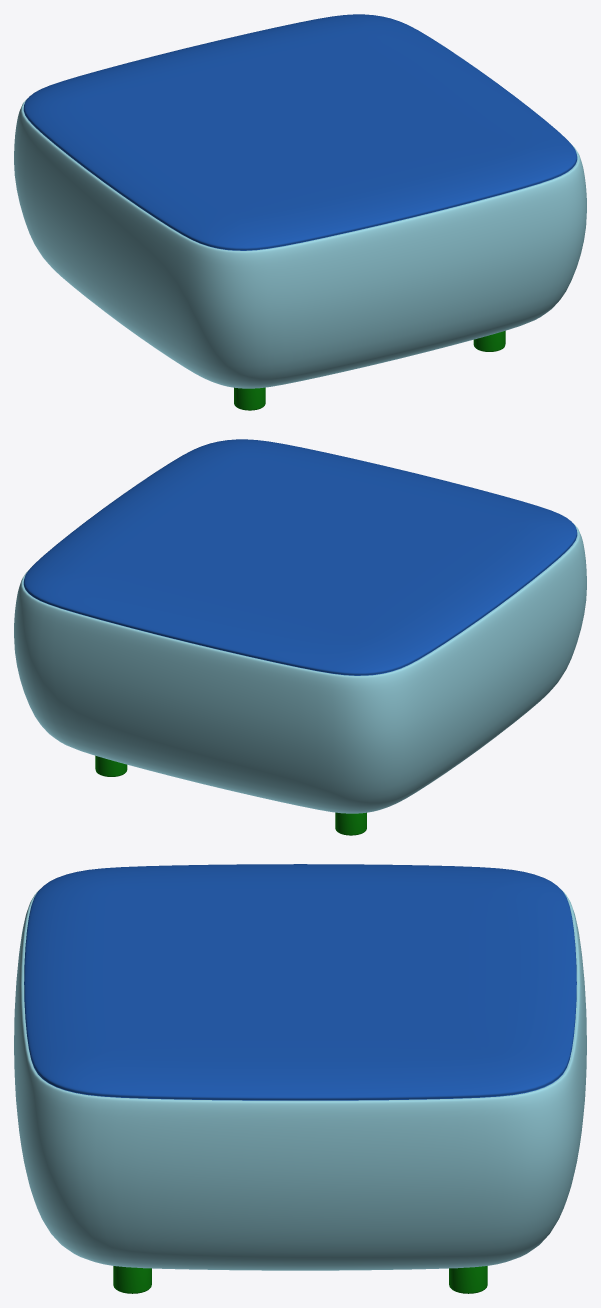
File: sofa5.obj
3 views of the same model, one above another, from view 1: azimuth 30°, elevation 25°; view 2: azimuth 150°, elevation 25°; view 3: azimuth 270°, elevation 25° (orthographic). The views are drawn at different scales.
Visible parts, largest first — view 1: cgaxis_models_07_20_02, cgaxis_models_07_20_01, cgaxis_models_07_20_03; view 2: cgaxis_models_07_20_02, cgaxis_models_07_20_01, cgaxis_models_07_20_03; view 3: cgaxis_models_07_20_02, cgaxis_models_07_20_01, cgaxis_models_07_20_03.
Part boxes in pixels (x1,y1,x2,y2): cgaxis_models_07_20_02: (23,14,577,250); cgaxis_models_07_20_01: (14,98,586,388); cgaxis_models_07_20_03: (234,330,505,410); cgaxis_models_07_20_02: (23,439,577,675); cgaxis_models_07_20_01: (14,523,586,813); cgaxis_models_07_20_03: (95,755,366,835); cgaxis_models_07_20_02: (24,864,576,1100); cgaxis_models_07_20_01: (14,889,586,1270); cgaxis_models_07_20_03: (113,1266,487,1293).
Size of the model in its own units: 34.93 by 16.45 by 34.93.
